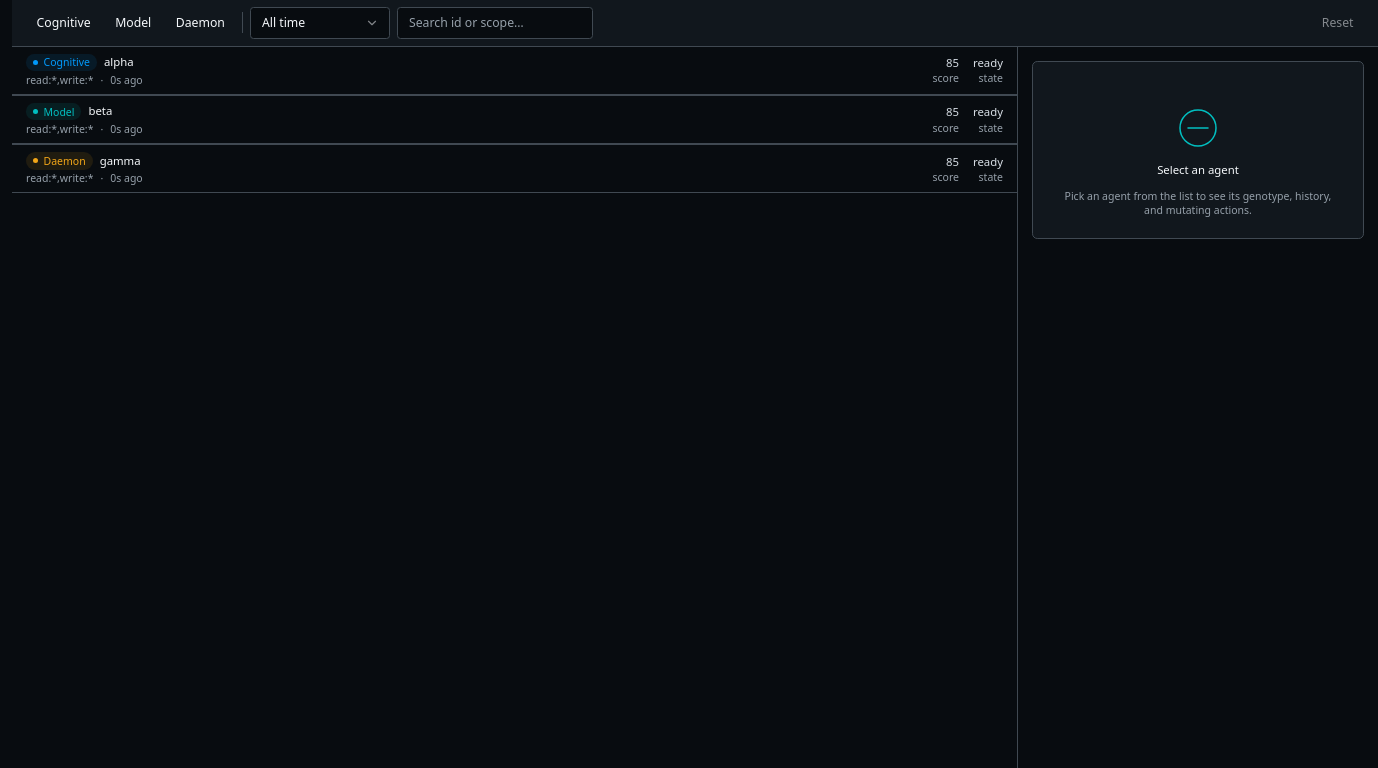
Test: AgentsConsole › renders all agents and supports trait filtering
Click the button "Model" at (133, 23), box [105,9,162,37]
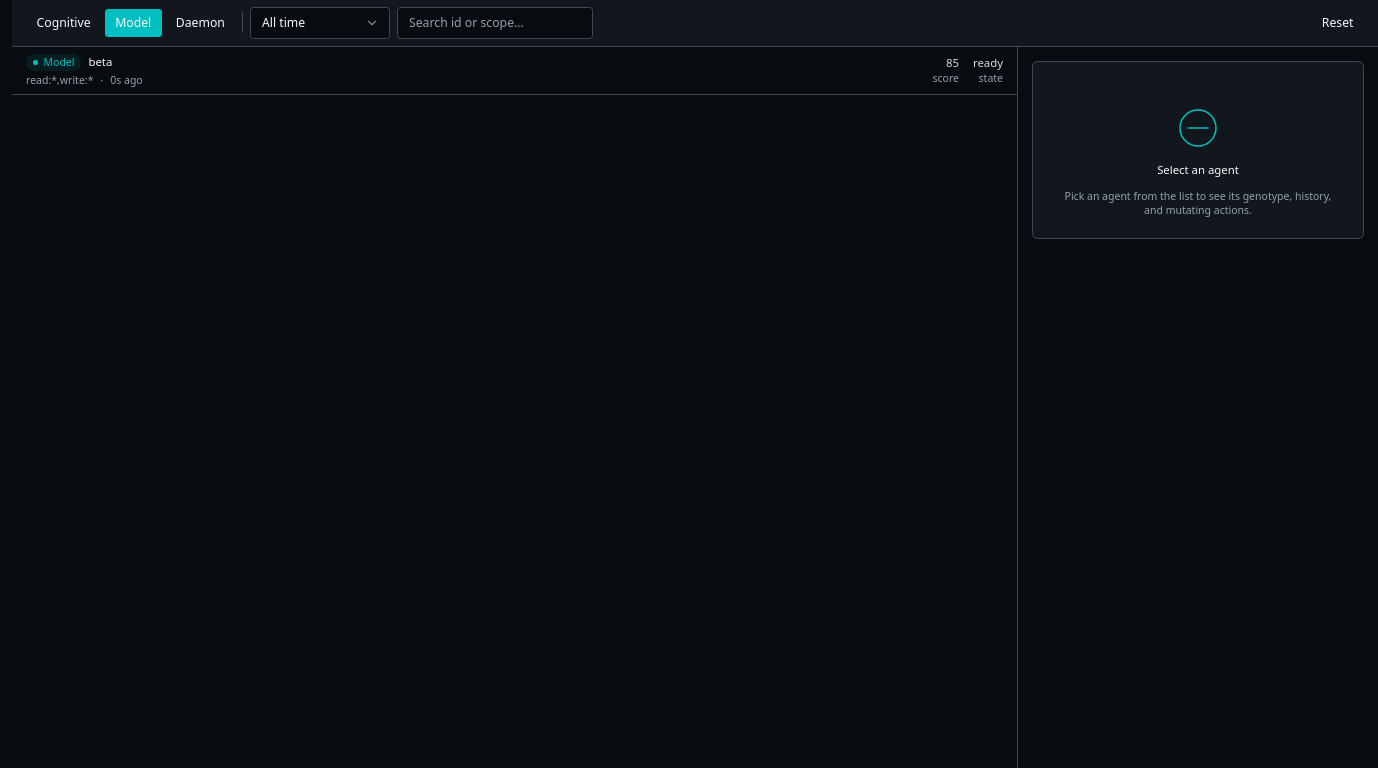
expect the text "beta" is shown: met, box [88,54,112,70]
expect the button "alpha" is gone: met
expect the button "gamma" is gone: met
